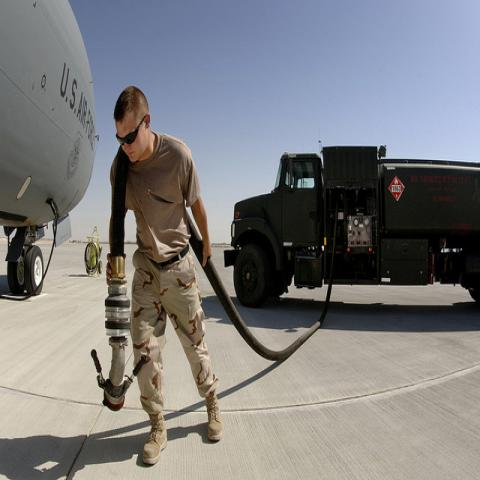truck: (224, 144, 480, 311)
